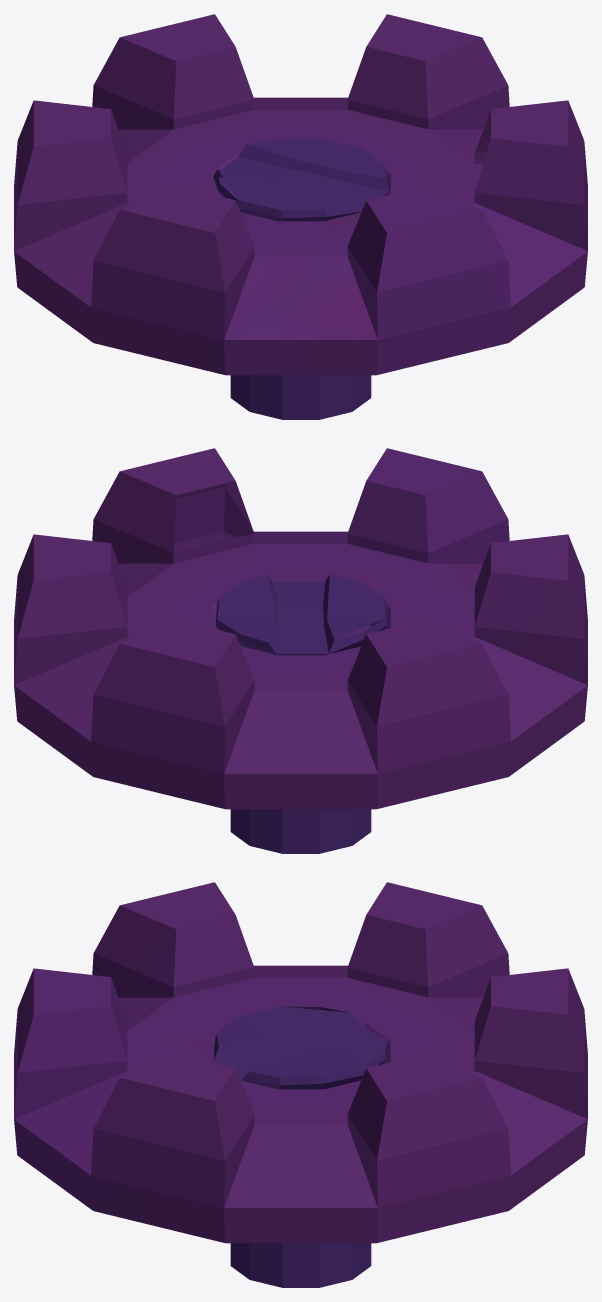
File: obj_gear08_hard.gltf
The picture shows the model from 3 angles, top to bottom: view 1: azimuth 30°, elevation 25°; view 2: azimuth 150°, elevation 25°; view 3: azimuth 270°, elevation 25°; orthographic projection.
Parts seen in each view (by area): view 1: obj_gear08_hard; view 2: obj_gear08_hard; view 3: obj_gear08_hard.
Part boxes in pixels (left/top/right/bottom): obj_gear08_hard: left=14, top=14, right=587, bottom=419; obj_gear08_hard: left=14, top=448, right=587, bottom=853; obj_gear08_hard: left=14, top=882, right=587, bottom=1287.
Size of what is drawn, in the model's own units: 0.2835 by 0.1453 by 0.2835.
Materials: 1 (1 with a texture image).
